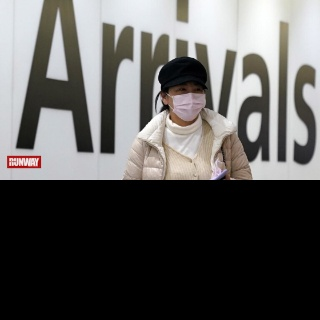with_mask: (167, 87, 206, 121)
